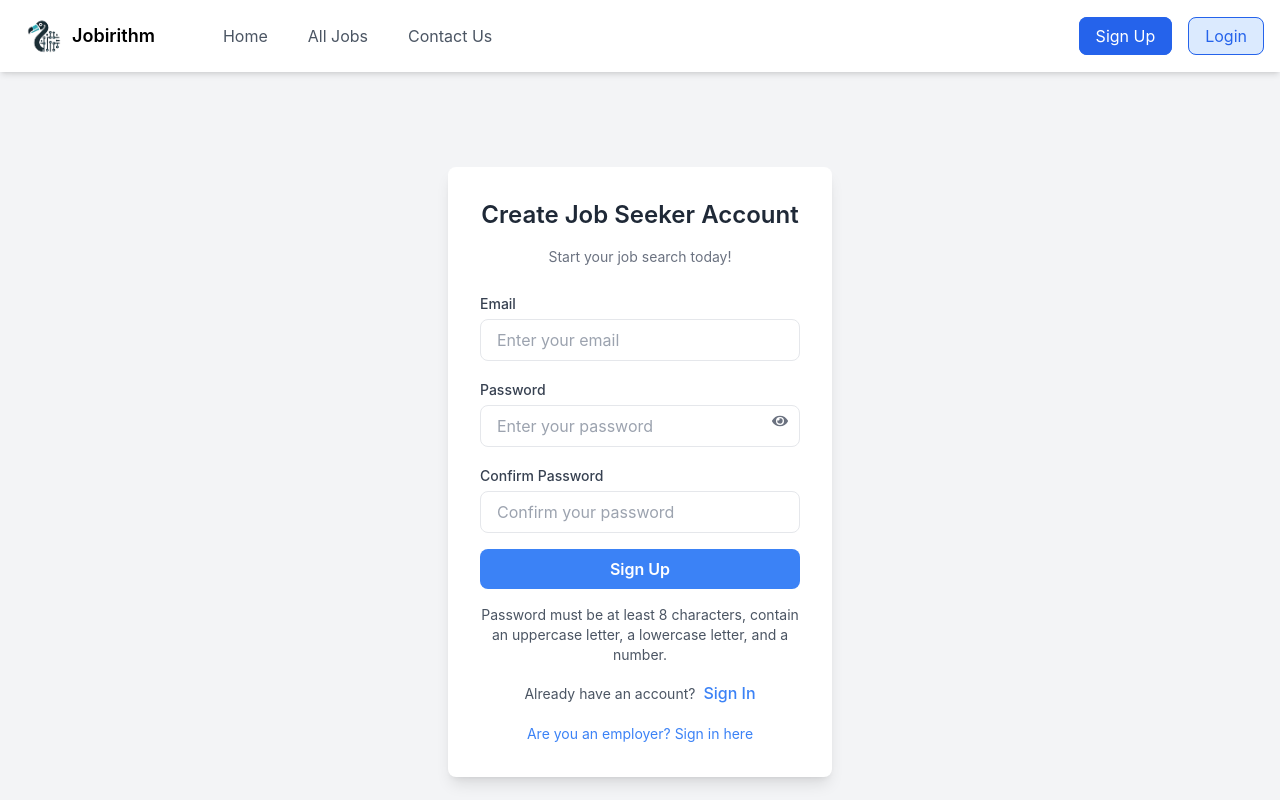
Test: AuthForm Component Tests › should display loading state when submitting form
This screenshot has width=1280, height=800.
In the field with placeholder "Enter your email": x=640, y=340 [480,319,800,361], type "test@example.com"
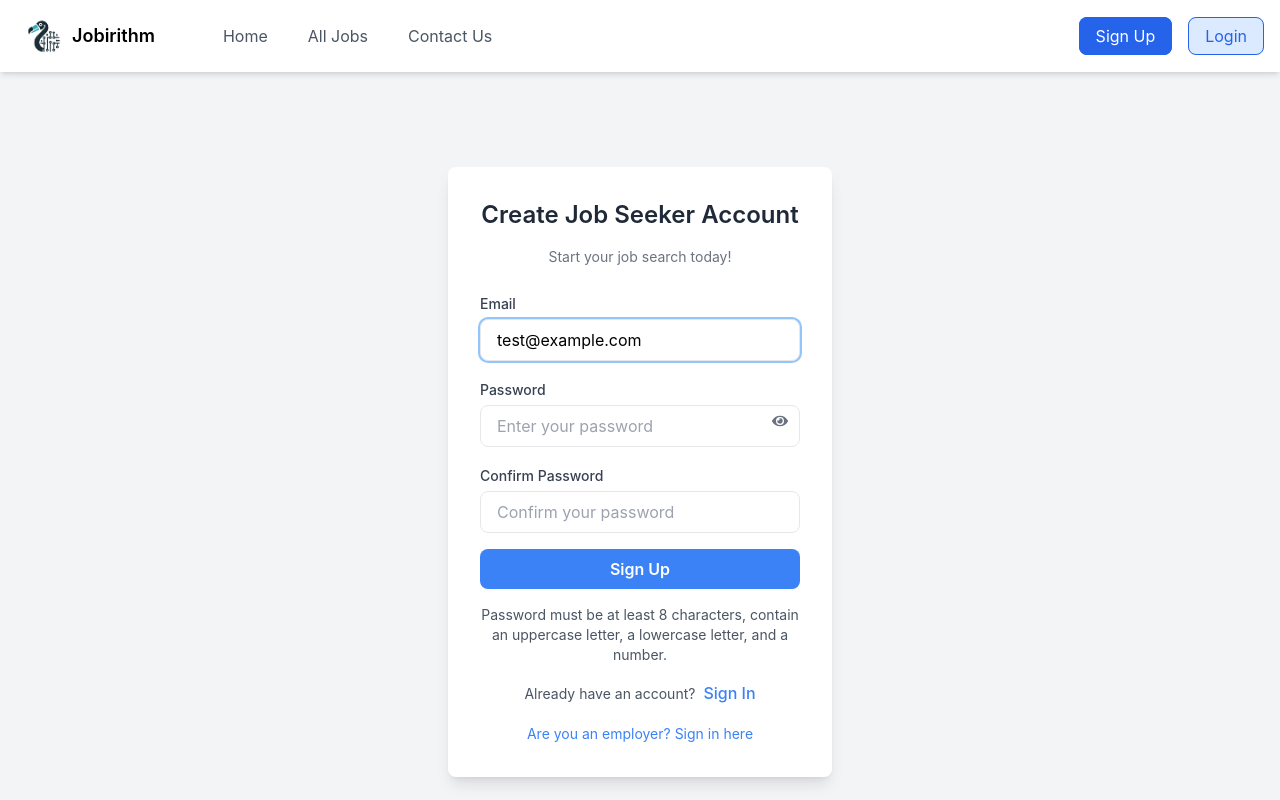
In the password field with placeholder "Enter your password": x=640, y=426 [480,405,800,447], type "Password123"
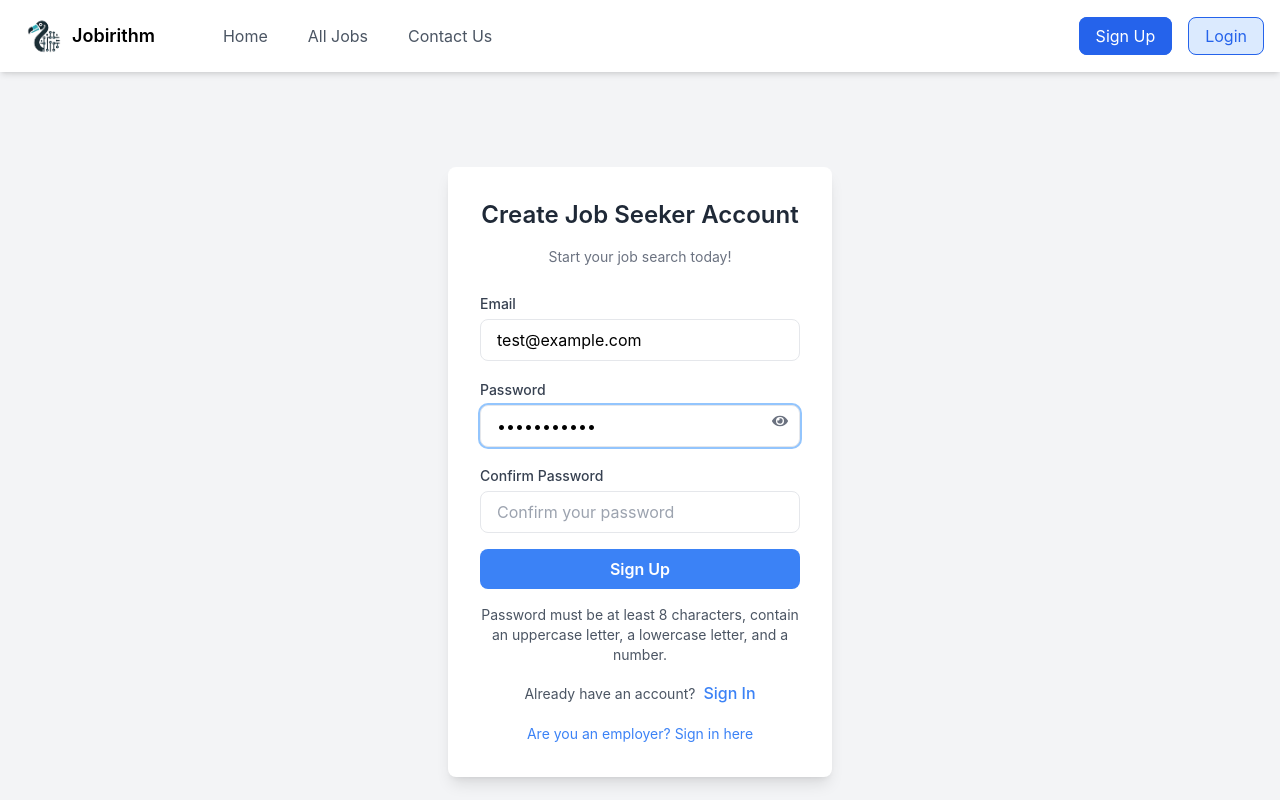
In the password field with placeholder "Confirm your password": x=640, y=512 [480,491,800,533], type "Password123"
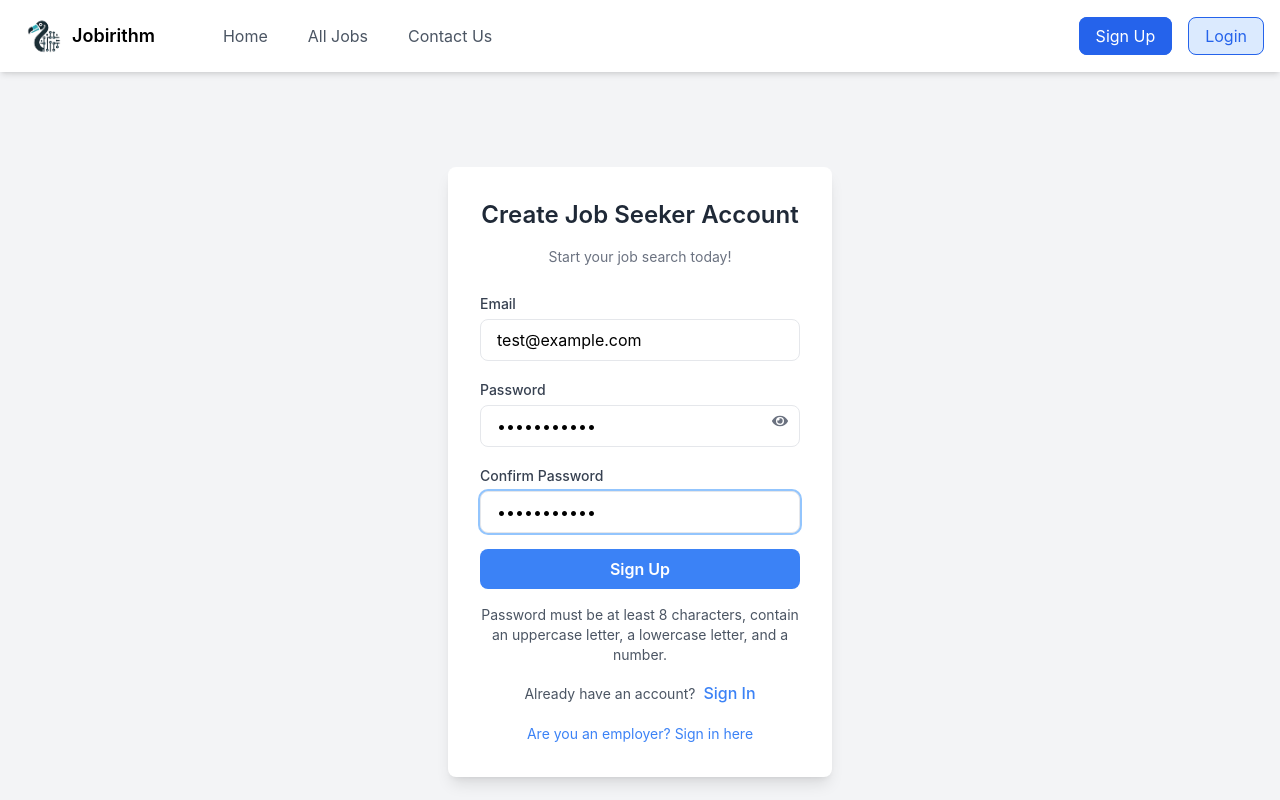
Click the submit button: x=640, y=569 [480,549,800,589]
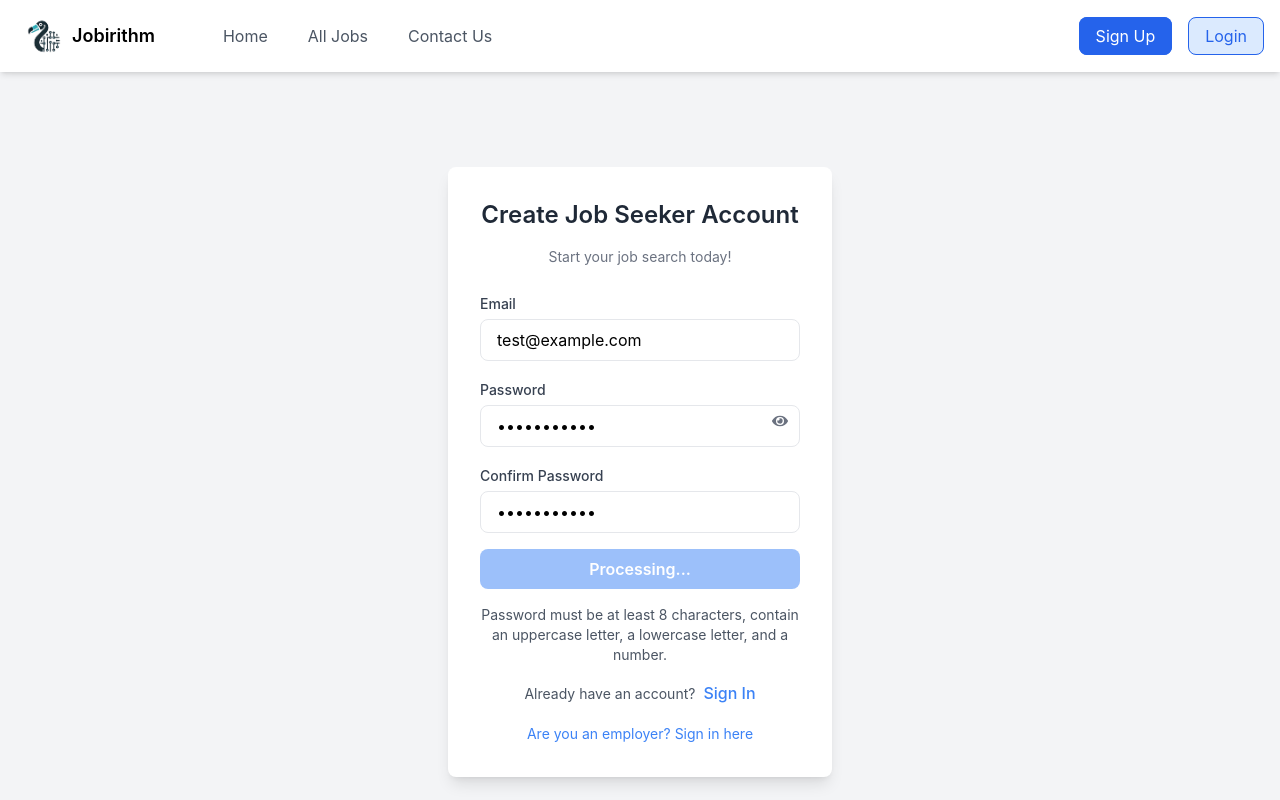
Expected: the button "Processing..." is shown, [480,549,800,589]
